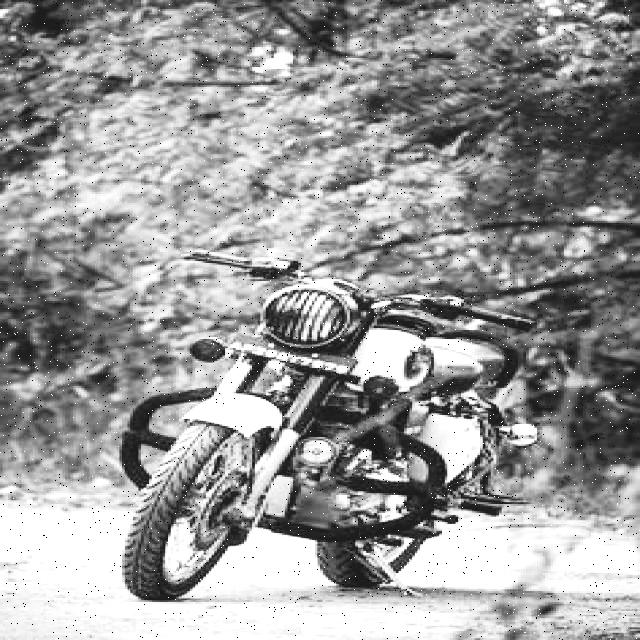Bike: (94, 239, 551, 605)
